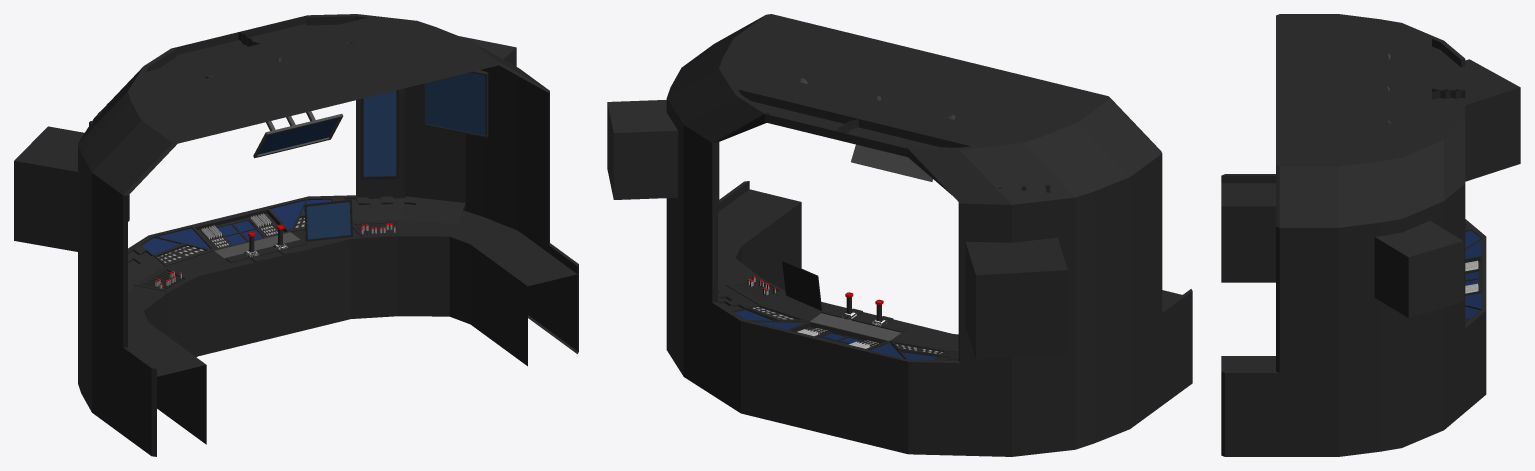
File: Ship Inside.fbx
3 renders of one model, left to right at view 1: azimuth 30°, elevation 25°; view 2: azimuth 150°, elevation 25°; view 3: azimuth 270°, elevation 25°, orthographic. The views are drawn at different scales.
Visible parts, largest first — view 1: Cube, Cube.003, Cube.004, Cube.001, Cube.002, Cube.005; view 2: Cube, Cube.003, Cube.004, Cube.002, Cube.005; view 3: Cube, Cube.004, Cube.003.
Boxes of the visible parts, left/top/right/bottom form: Cube: left=78, top=14, right=578, bottom=456; Cube.003: left=14, top=103, right=129, bottom=251; Cube.004: left=423, top=36, right=516, bottom=137; Cube.001: left=361, top=90, right=398, bottom=179; Cube.002: left=205, top=40, right=352, bottom=158; Cube.005: left=304, top=199, right=352, bottom=241; Cube: left=666, top=14, right=1192, bottom=456; Cube.003: left=965, top=184, right=1067, bottom=359; Cube.004: left=607, top=100, right=677, bottom=199; Cube.002: left=800, top=78, right=955, bottom=181; Cube.005: left=782, top=260, right=822, bottom=310; Cube: left=1221, top=14, right=1486, bottom=456; Cube.004: left=1374, top=221, right=1463, bottom=317; Cube.003: left=1465, top=59, right=1520, bottom=181.
Bounding box in the file's own units: 1231 × 709 × 711.
